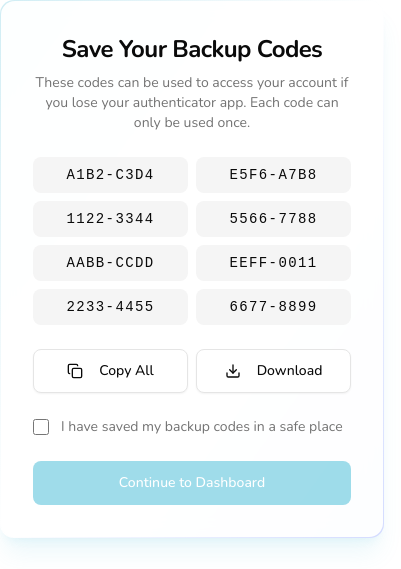
Test case: BackupCodesDisplay › should enable Continue button after checkbox is checked
Click the checkbox with test id "backup-codes-acknowledge": [41, 427] box [33,419,49,435]
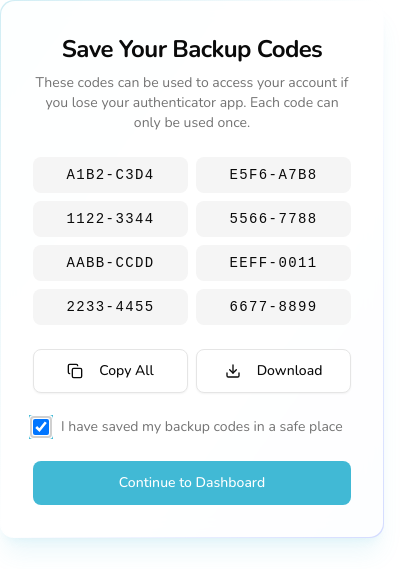
expect the button with test id "backup-codes-continue" is enabled: met, box [33,461,351,505]
